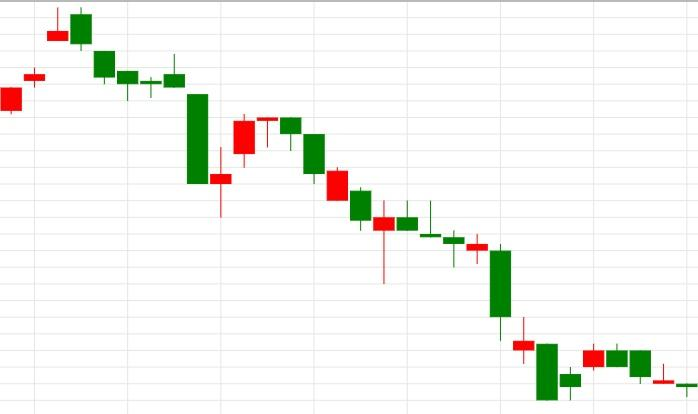morning_star_rise: (70, 7, 255, 218)
